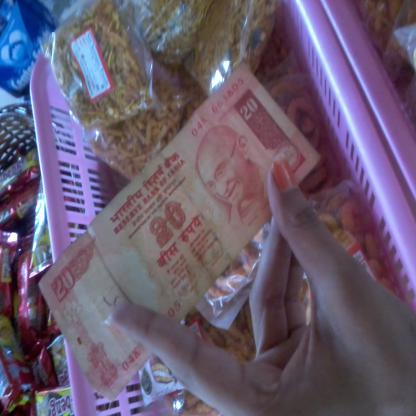Old20Front: (38, 64, 320, 403)
